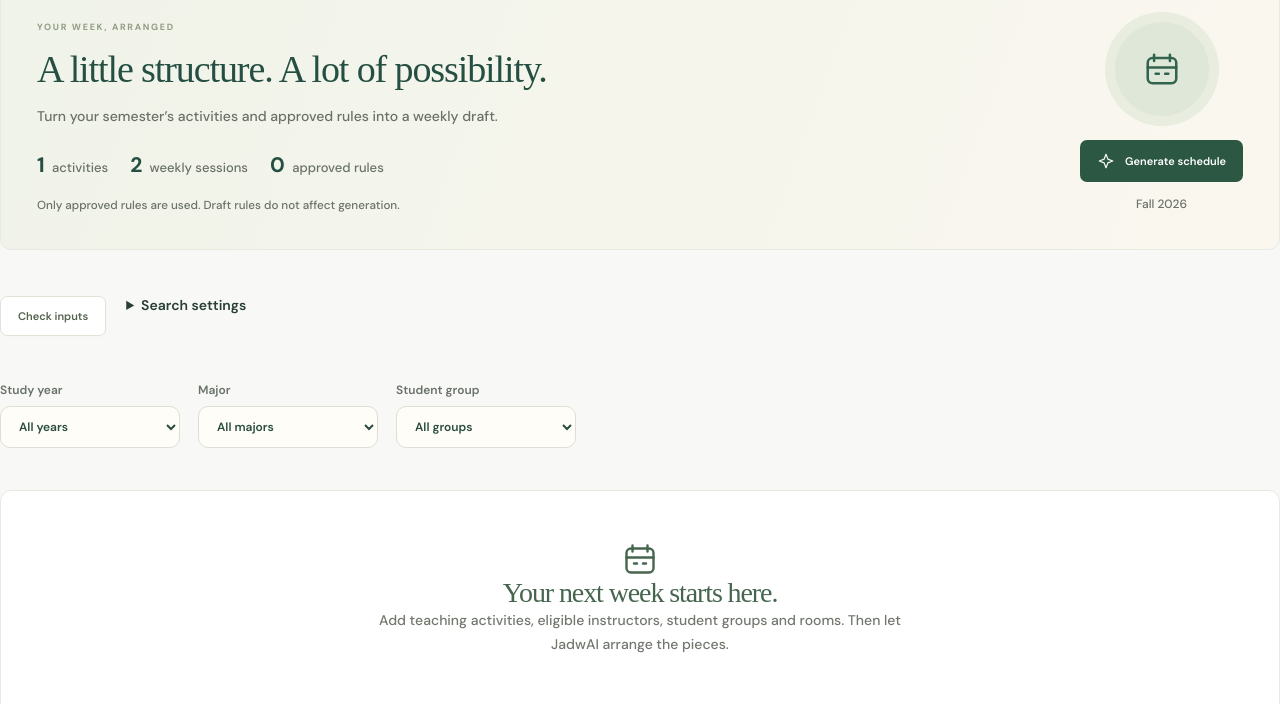
Test case: generates with the current version and presents the actual assignments
Click the button "Generate schedule".
click(1162, 161)  # box x1=1080 y1=140 x2=1243 y2=182
(page scrolled)
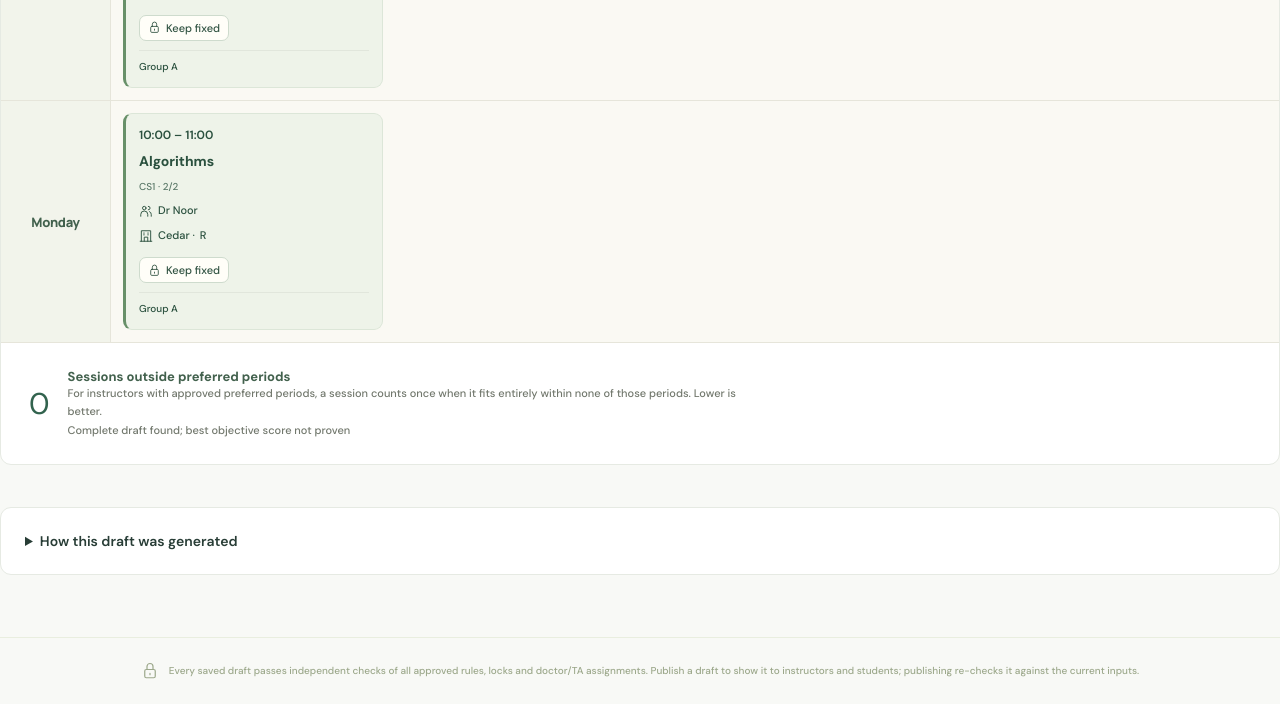
Expected: the text "publishing re-checks it against the current inputs" is shown, x1=169 y1=664 x2=1139 y2=677
Now the text "Algorithms" is shown 2 times
